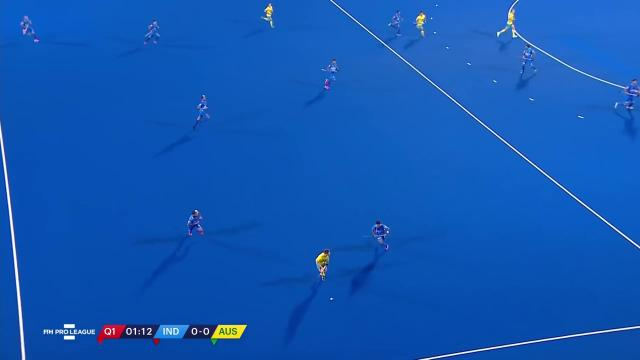ball: (327, 293, 338, 302)
